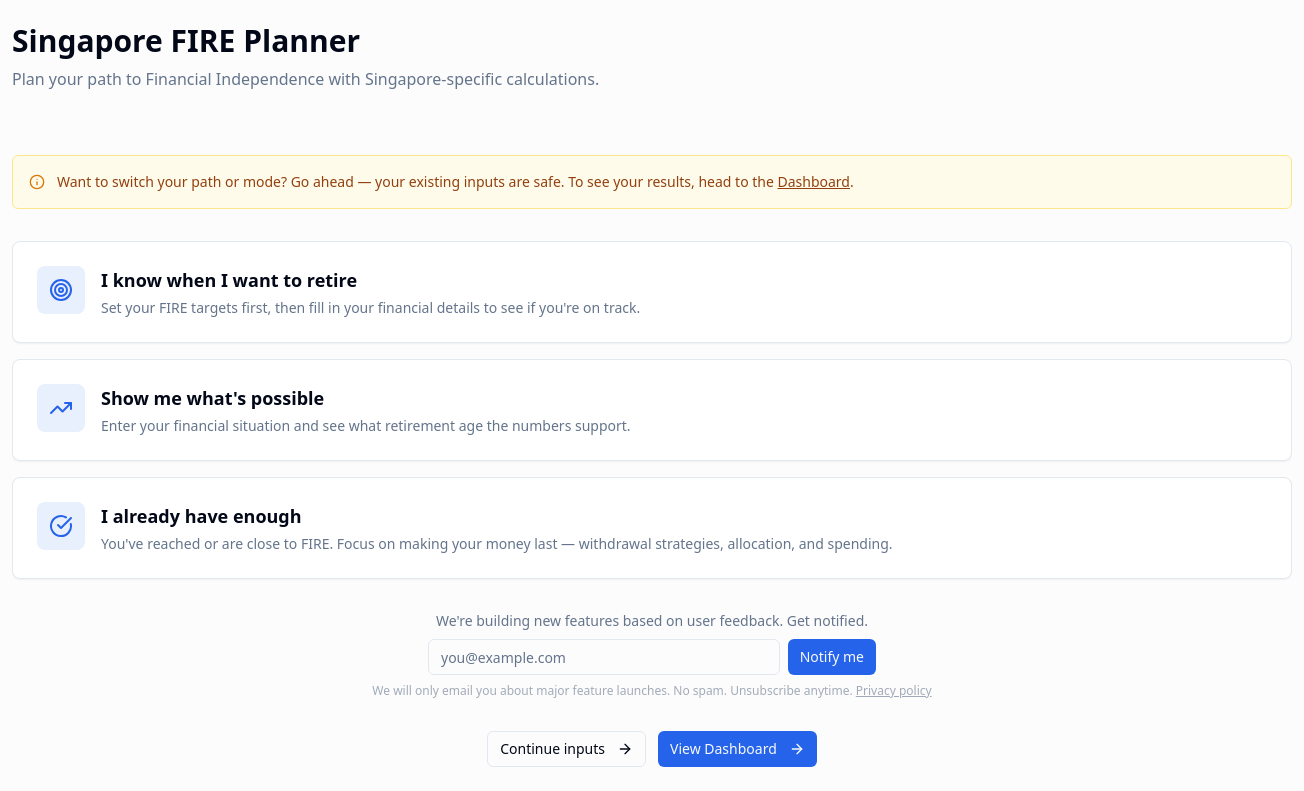
Test case: StartPage › shows goal-first form when clicking first pathway
The width and height of the screenshot is (1304, 791).
Click the text "I know when I want to retire": (229, 280) [101,268,357,292]
(page scrolled)
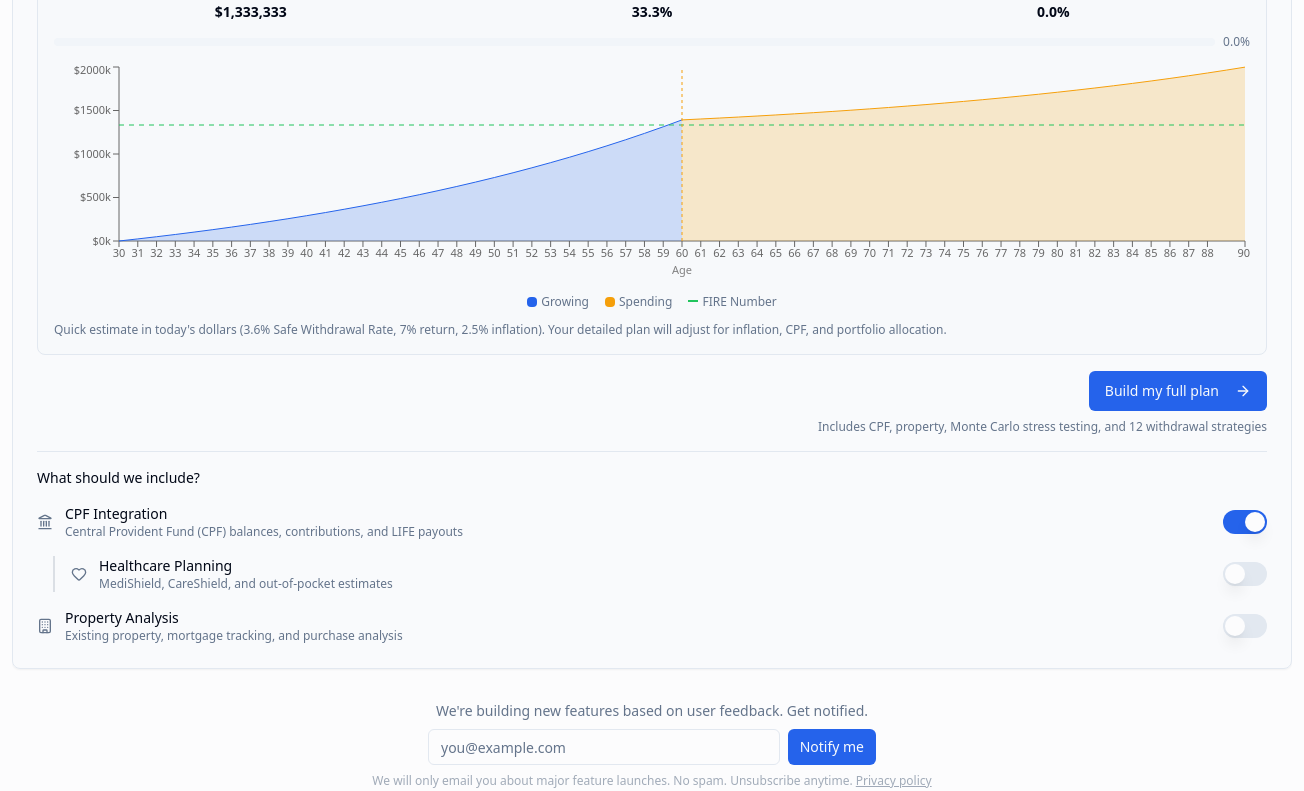
Now the button "Build my full plan" is shown, box [1089,371,1267,411]
